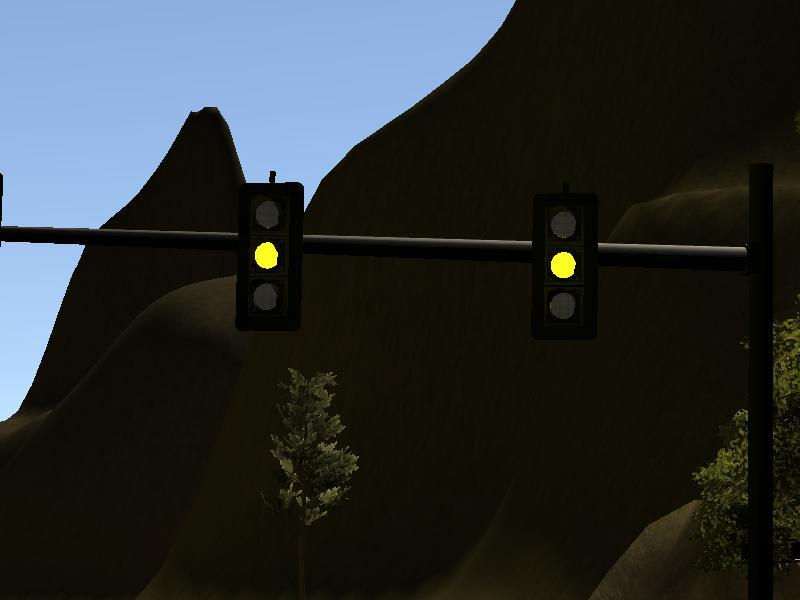Yellow: (235, 182, 303, 333), (533, 193, 599, 342)
